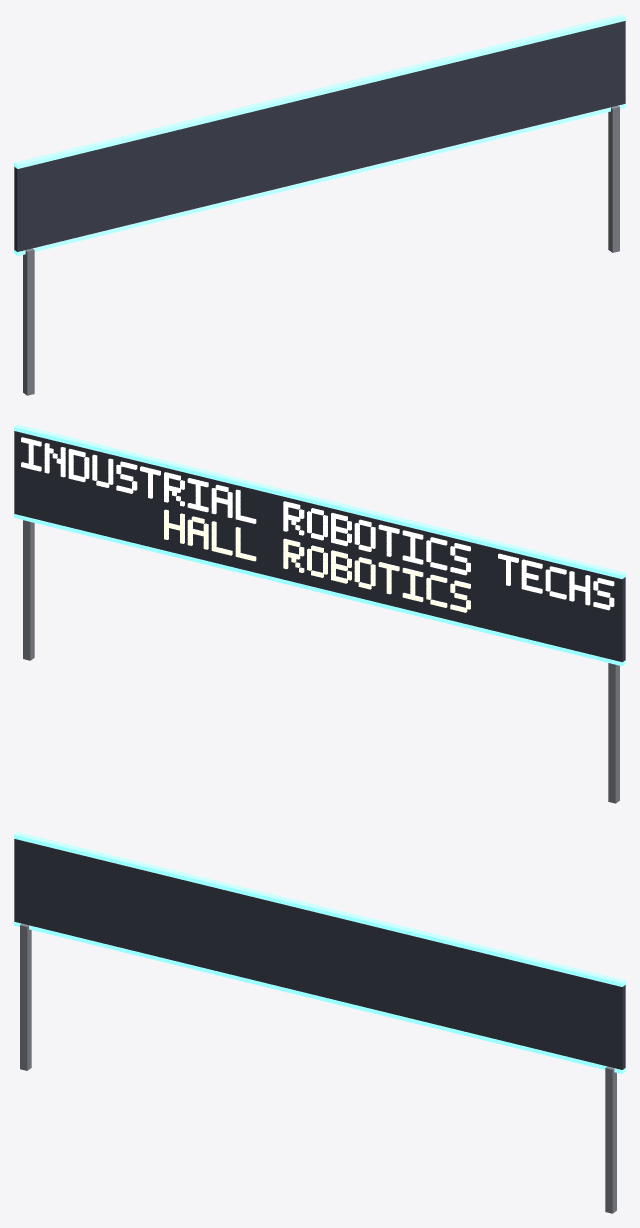
File: wing-sign-hall-robotics.glb
The picture shows the model from 3 angles, top to bottom: view 1: azimuth 30°, elevation 25°; view 2: azimuth 150°, elevation 25°; view 3: azimuth 330°, elevation 25°; orthographic projection.
Parts seen in each view (by area): view 1: Sign · Industrial Robotics Techs; view 2: Sign · Industrial Robotics Techs; view 3: Sign · Industrial Robotics Techs.
Boxes of the visible parts, x1,y1,x2,y2 form: Sign · Industrial Robotics Techs: [14, 14, 625, 395]; Sign · Industrial Robotics Techs: [14, 424, 625, 803]; Sign · Industrial Robotics Techs: [14, 832, 625, 1213].
Bounding box in the file's own units: 13.26 × 4.81 × 0.252.
